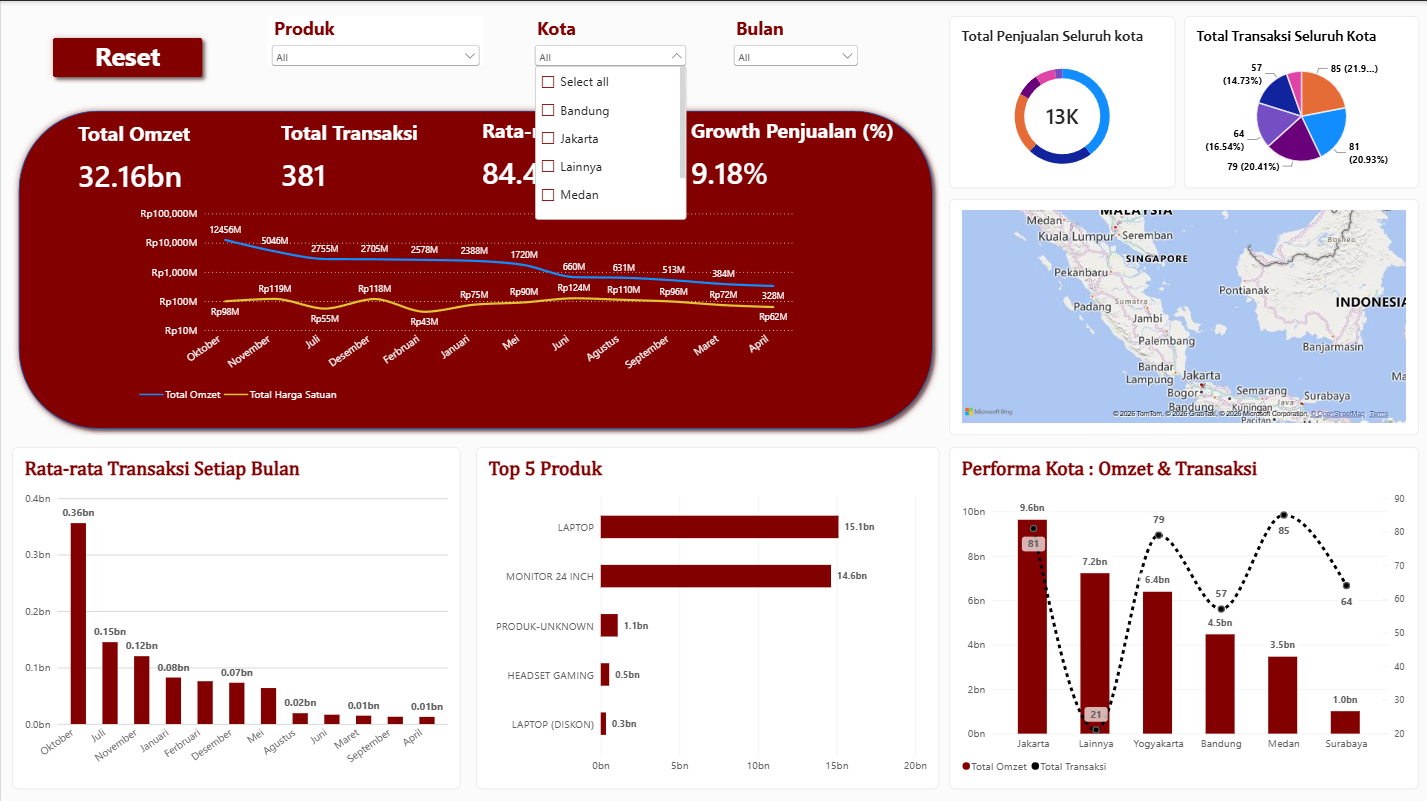

The dashboard page shown, as its layout file describes it:
{"tool":"powerbi","page":{"name":"Duplicate of Duplicate of Page 1","canvas":[1920,1080],"ordinal":0},"visuals":[{"type":"shape","box":[14.6,138.6,1248.9,446.4],"z":0},{"type":"cardVisual","fields":{"Data":["public produksi.Total Omzet"]},"box":[87.5,135.7,300,150],"z":1000},{"type":"lineChart","fields":{"Category":["public produksi.Bulan"],"Y":["public produksi.Total Omzet","public produksi.Total Harga Satuan"]},"box":[170.7,261.2,911.9,299.1],"z":2000},{"type":"slicer","fields":{"Values":["public produksi.Produk"]},"box":[358.9,20.4,290.3,67.1],"z":3000},{"type":"slicer","fields":{"Values":["calendar.Month name"]},"box":[981.9,20.4,176.5,67.1],"z":4000},{"type":"cardVisual","fields":{"Data":["public produksi.Total Transaksi"]},"box":[360.4,134.2,300,150],"z":5000},{"type":"filledMap","fields":{"Category":["public produksi.Kota_Toko"]},"box":[1276.6,267,633.2,318.1],"z":6000},{"type":"slicer","fields":{"Values":["public produksi.Kota_Toko"]},"box":[713.4,20.4,214.5,67.1],"z":7000},{"type":"clusteredColumnChart","title":"Rata-rata Transaksi Setiap Bulan","fields":{"Category":["public produksi.Bulan"],"Y":["public produksi.Rata-rata Transaksi"]},"box":[14.6,601.1,604,461],"z":8000},{"type":"cardVisual","fields":{"Data":["public produksi.Rata-rata Transaksi"]},"box":[631.7,131.3,300,150],"z":9000},{"type":"cardVisual","fields":{"Data":["public produksi.Growth Penjualan (%)"]},"box":[913.3,131.3,319.5,150.3],"z":10000},{"type":"donutChart","fields":{"Category":["public produksi.Kota_Toko"],"Y":["public produksi.Total Quantity"]},"box":[1276.6,20.4,304.9,232],"z":11000},{"type":"clusteredBarChart","title":"Top 5 Produk","fields":{"Category":["public produksi.Produk"],"Y":["public produksi.Total Omzet"]},"box":[639,601.1,624.4,461],"z":12000},{"type":"lineClusteredColumnComboChart","title":"Performa Kota : Omzet & Transaksi","fields":{"Category":["public produksi.Kota_Toko"],"Y":["public produksi.Total Omzet"],"Y2":["public produksi.Total Transaksi"]},"box":[1276.6,601.1,633,461],"z":13000},{"type":"pieChart","title":"Total Transaksi Seluruh Kota","fields":{"Category":["public produksi.Kota_Toko"],"Y":["public produksi.Total Transaksi"]},"box":[1593.2,20.4,316.6,232],"z":14000},{"type":"actionButton","box":[60,40,220,71.4],"z":15000}]}

Visuals, with their boxes in screenshot pixels (x1, y1, x2, y2), scaled from the page's 1920x1080 canvas onto the 1427x801 screenshot:
shape: region(11, 103, 939, 434)
cardVisual - public produksi.Total Omzet: region(65, 101, 288, 212)
lineChart - public produksi.Bulan x public produksi.Total Omzet: region(127, 194, 805, 416)
slicer - public produksi.Produk: region(267, 15, 483, 65)
slicer - calendar.Month name: region(730, 15, 861, 65)
cardVisual - public produksi.Total Transaksi: region(268, 100, 491, 211)
filledMap - public produksi.Kota_Toko: region(949, 198, 1419, 434)
slicer - public produksi.Kota_Toko: region(530, 15, 690, 65)
"Rata-rata Transaksi Setiap Bulan" clusteredColumnChart: region(11, 446, 460, 788)
cardVisual - public produksi.Rata-rata Transaksi: region(469, 97, 692, 209)
cardVisual - public produksi.Growth Penjualan (%): region(679, 97, 916, 209)
donutChart - public produksi.Kota_Toko x public produksi.Total Quantity: region(949, 15, 1175, 187)
"Top 5 Produk" clusteredBarChart: region(475, 446, 939, 788)
"Performa Kota : Omzet & Transaksi" lineClusteredColumnComboChart: region(949, 446, 1419, 788)
"Total Transaksi Seluruh Kota" pieChart: region(1184, 15, 1419, 187)
actionButton: region(45, 30, 208, 83)
